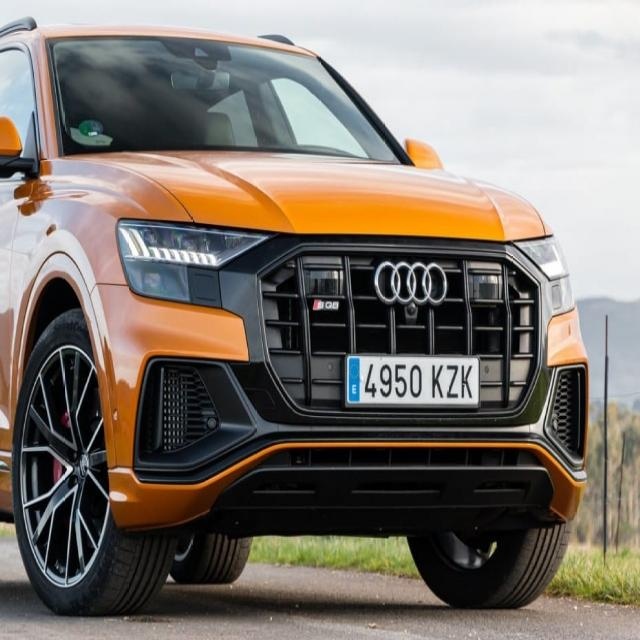football: (348, 354, 480, 405)
